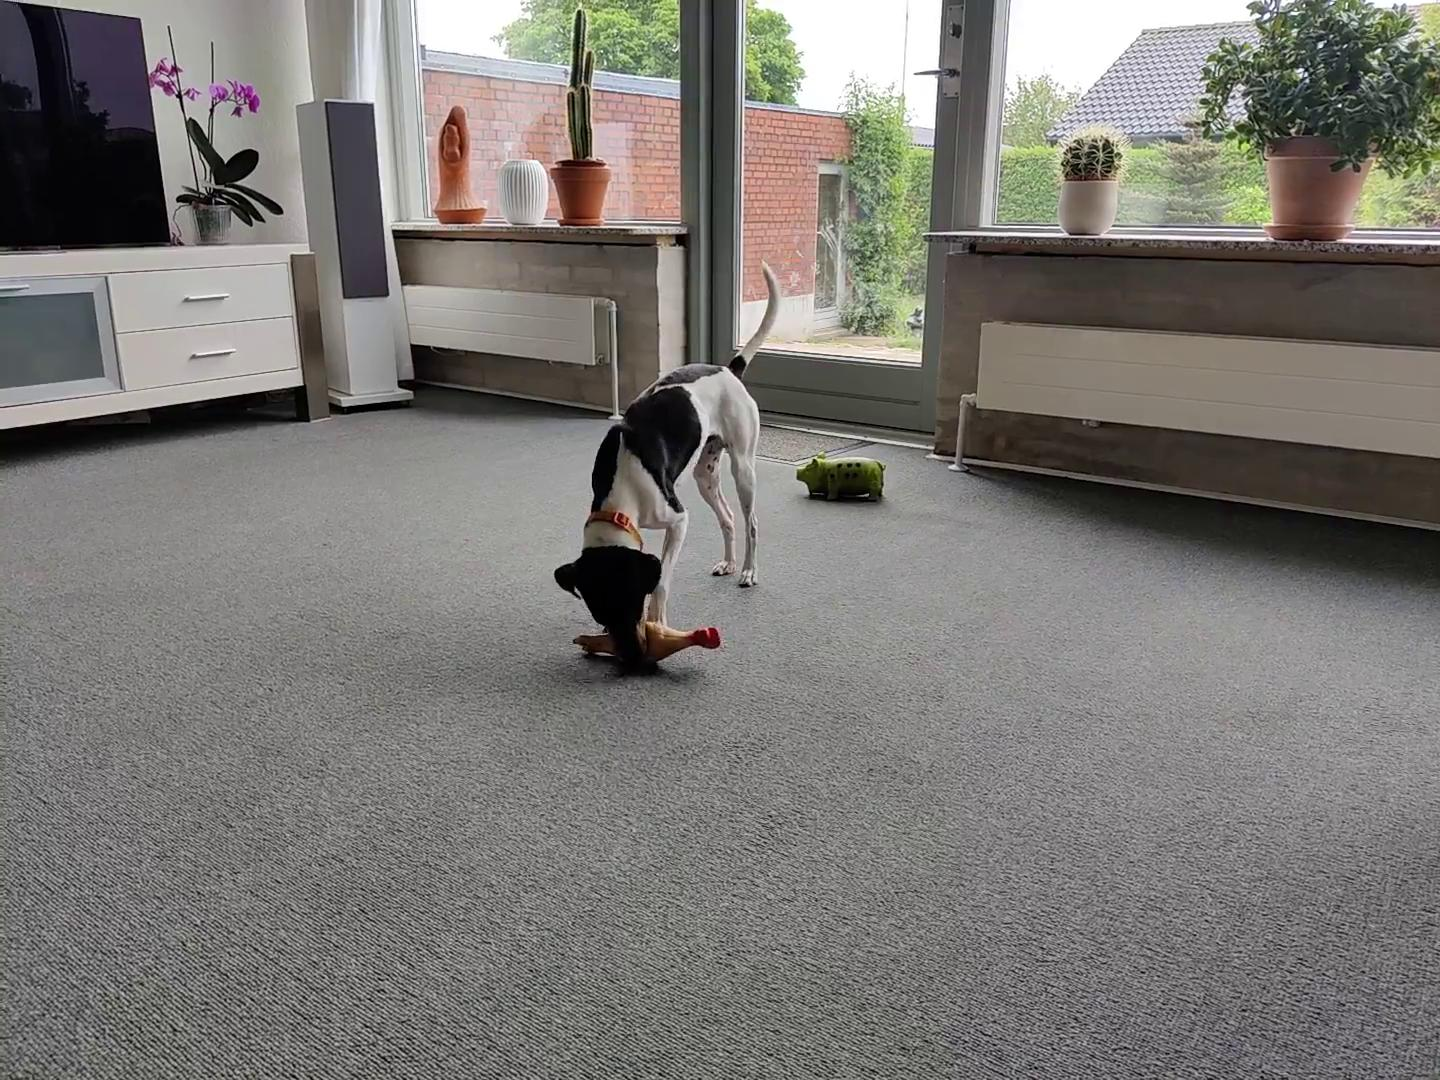Dog: (539, 254, 791, 670)
